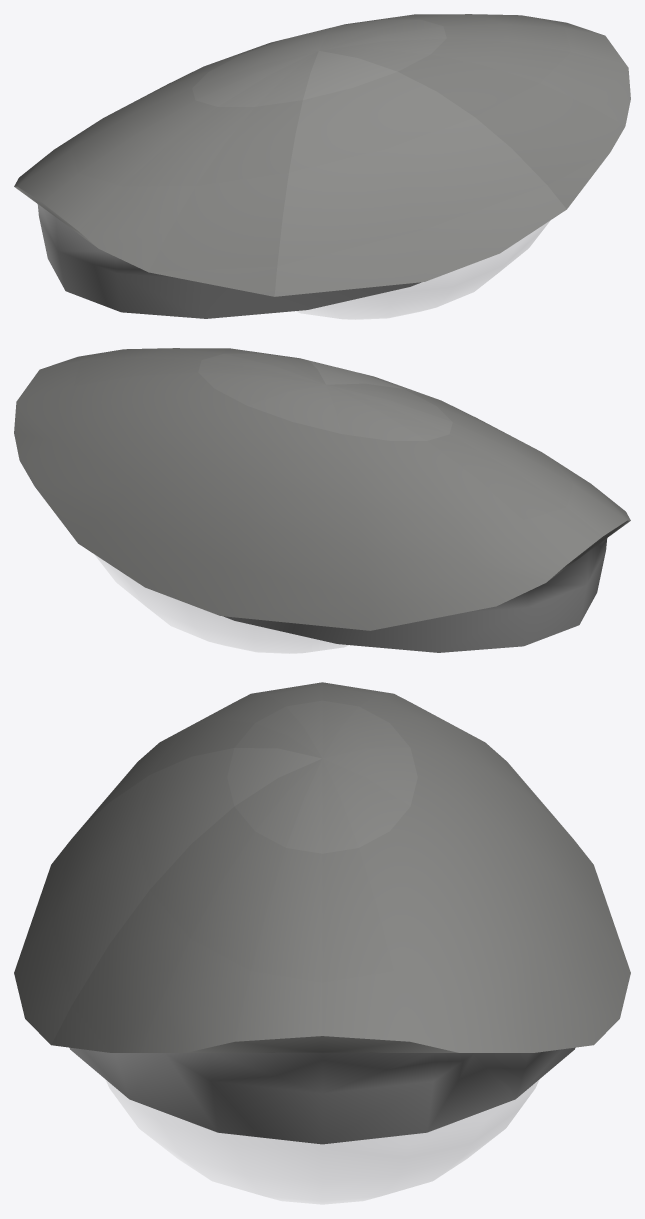
3 views of the same model, one above another, from view 1: azimuth 30°, elevation 25°; view 2: azimuth 150°, elevation 25°; view 3: azimuth 270°, elevation 25° (orthographic). The views are drawn at different scales.
Visible parts, largest first — view 1: Sphere, Glas; view 2: Sphere, Glas; view 3: Sphere, Glas.
Boxes of the visible parts, box(x1,y1,x2,y2) form: Sphere: box(14, 14, 630, 318); Glas: box(296, 221, 549, 319); Sphere: box(14, 348, 630, 652); Glas: box(95, 555, 348, 653); Sphere: box(14, 682, 630, 1144); Glas: box(106, 1080, 538, 1204).
Size of the model in its own units: 0.6905 by 0.3066 by 0.4595.
4 materials, 3 textured.
